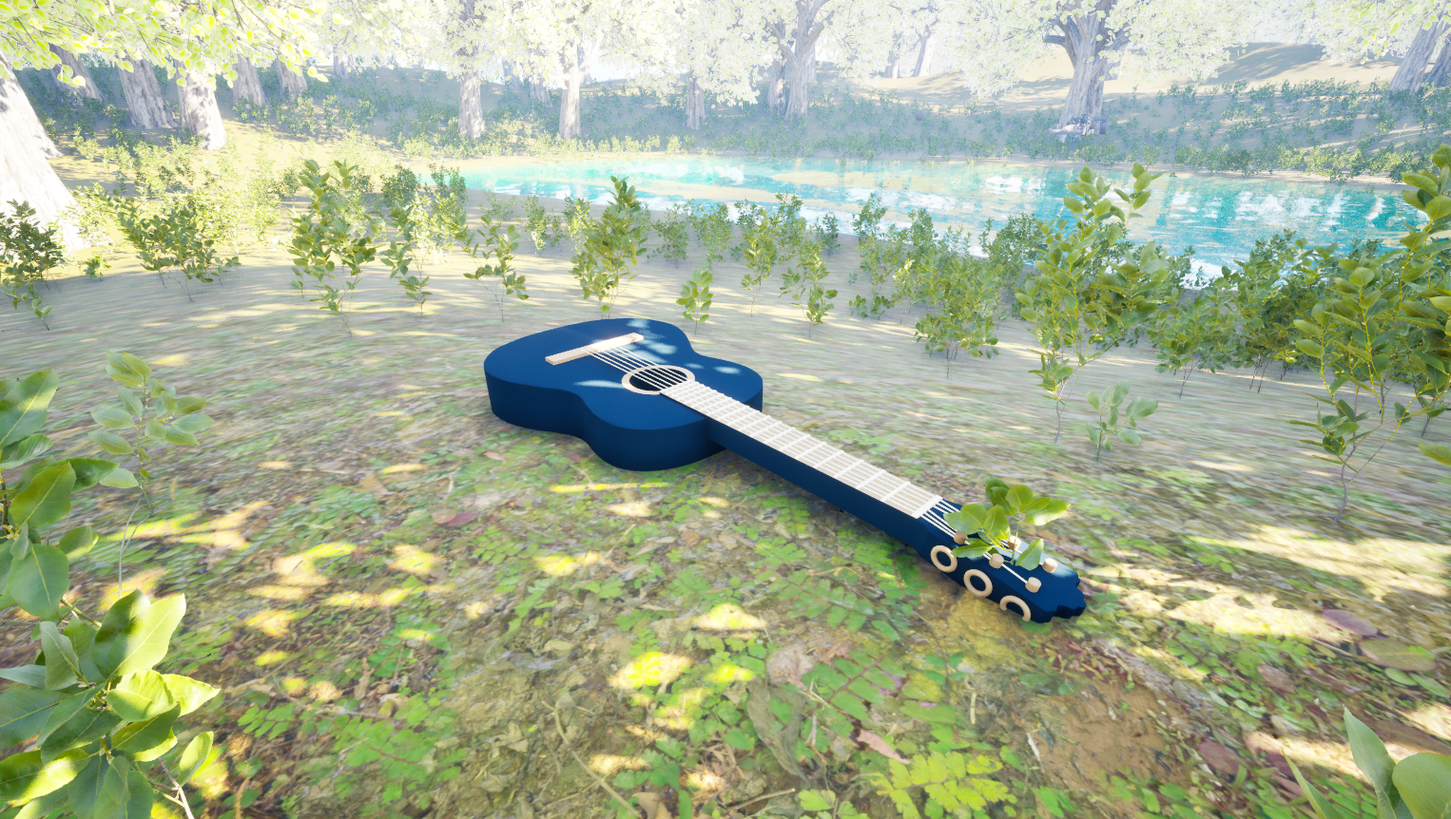Guitar: (457, 306, 1157, 782)
